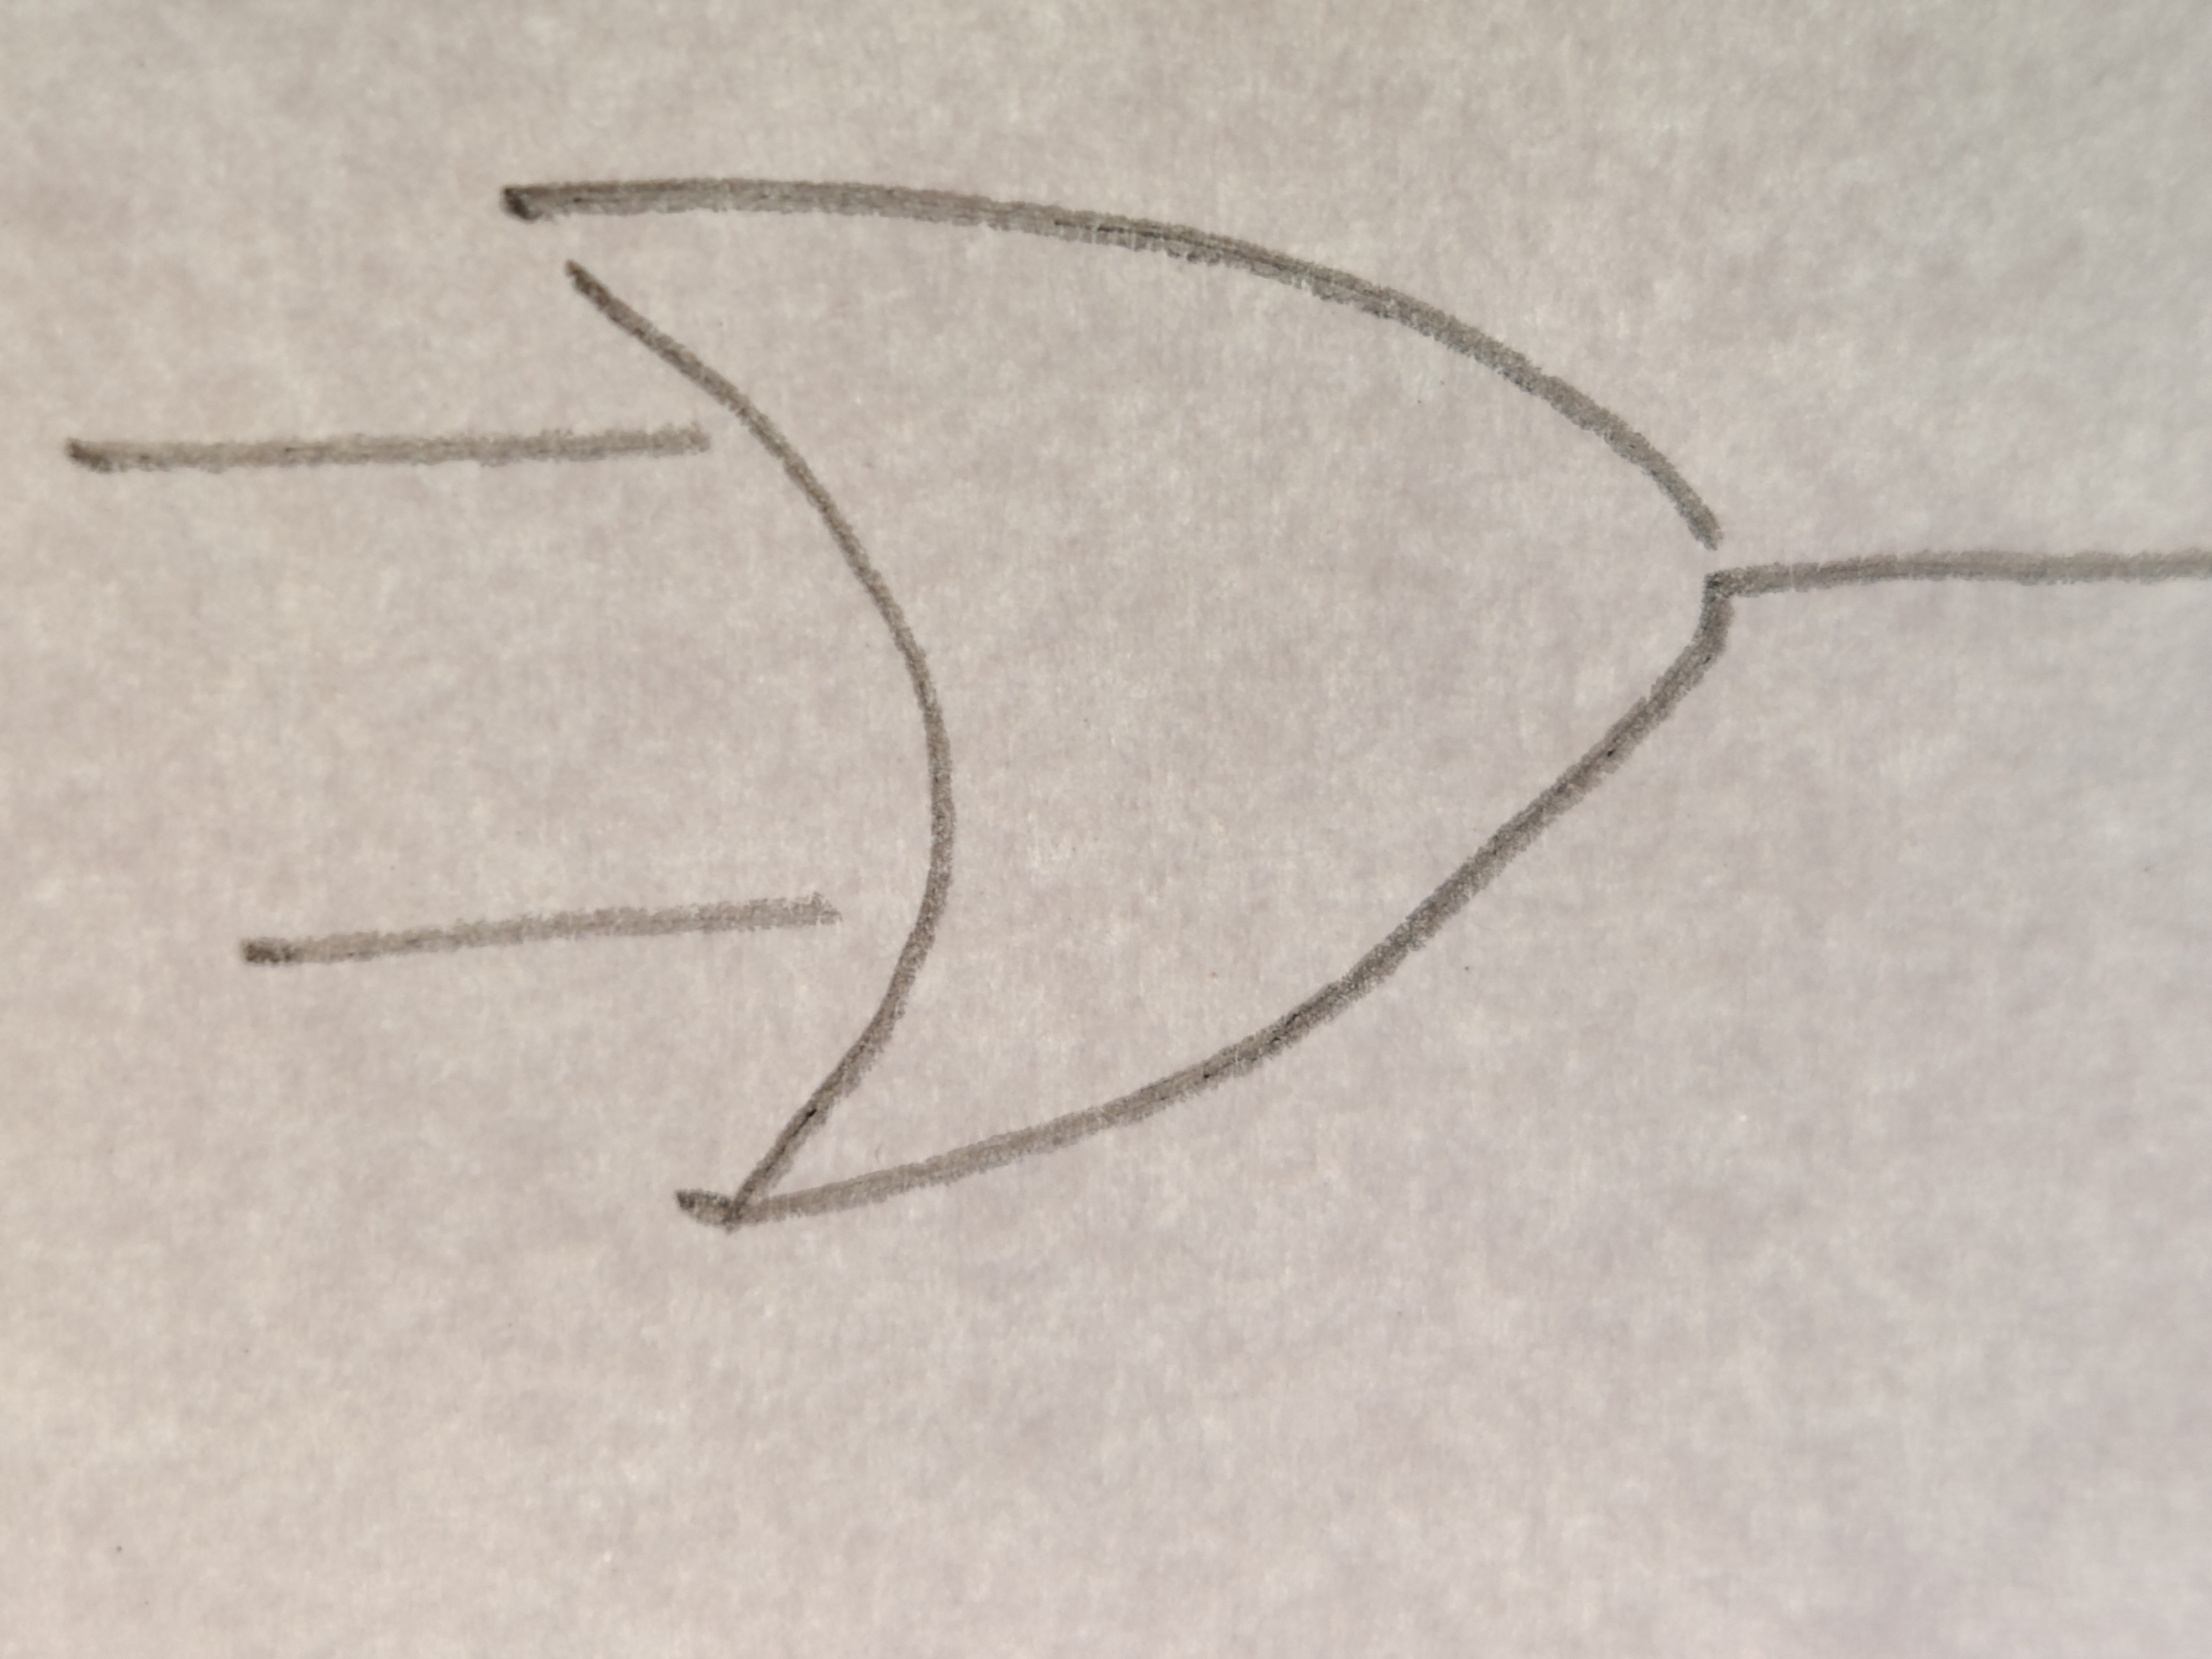or: (496, 183, 1726, 1220)
